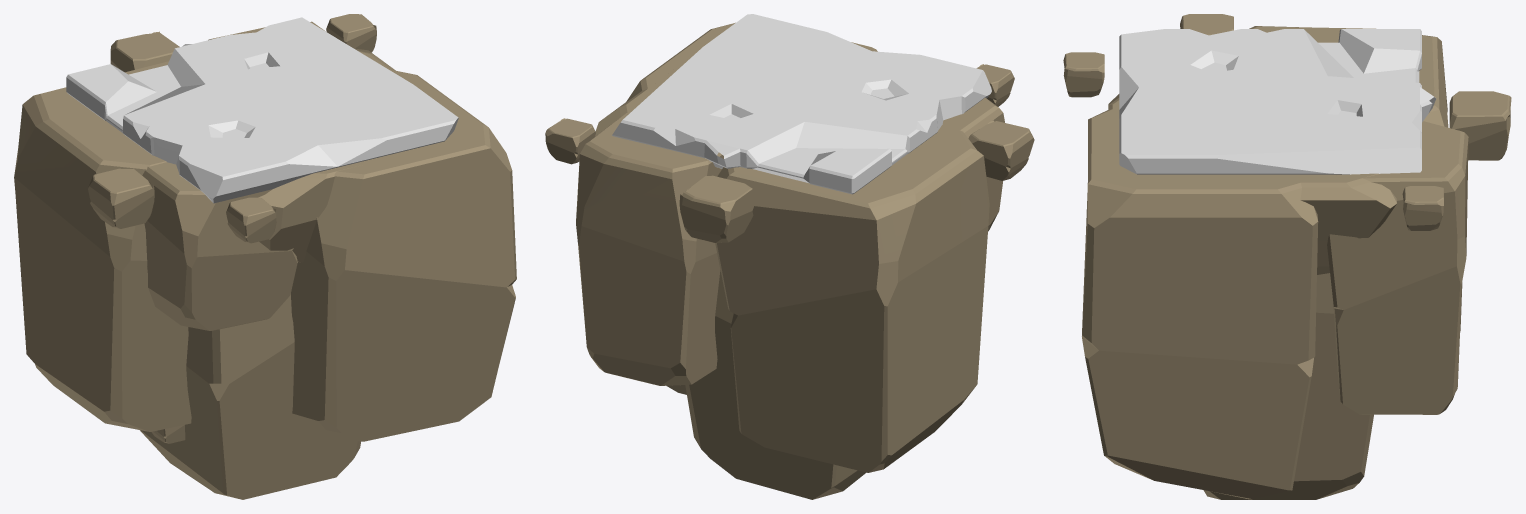
The model's file is FloatingFloorBox1.fbx.
The picture shows the model from 3 angles, left to right: view 1: azimuth 30°, elevation 25°; view 2: azimuth 150°, elevation 25°; view 3: azimuth 270°, elevation 25°; orthographic projection. The views are drawn at different scales.
Parts seen in each view (by area): view 1: floor1.001; view 2: floor1.001; view 3: floor1.001.
Part boxes in pixels (x1,y1,x2,y2): floor1.001: [14, 14, 516, 499]; floor1.001: [545, 14, 1034, 499]; floor1.001: [1063, 14, 1511, 499].
Bounding box in the file's own units: 395 × 374 × 394.
